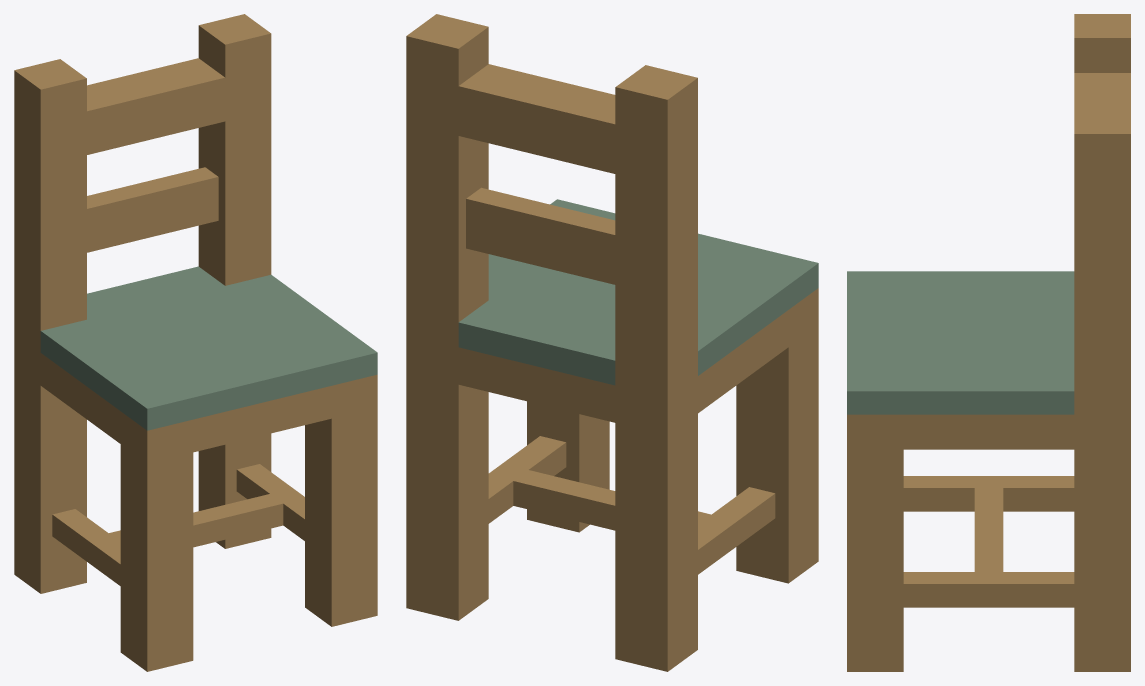
The model's file is chair_cushion.glb.
3 renders of one model, left to right at view 1: azimuth 30°, elevation 25°; view 2: azimuth 150°, elevation 25°; view 3: azimuth 270°, elevation 25°, orthographic. The views are drawn at different scales.
Parts seen in each view (by area): view 1: chair_cushion; view 2: chair_cushion; view 3: chair_cushion.
Boxes of the visible parts, box(x1,y1,x2,y2) form: chair_cushion: box(14, 14, 377, 671); chair_cushion: box(406, 14, 818, 671); chair_cushion: box(847, 14, 1130, 671).
Bounding box in the file's own units: 0.44 × 0.92 × 0.44.
